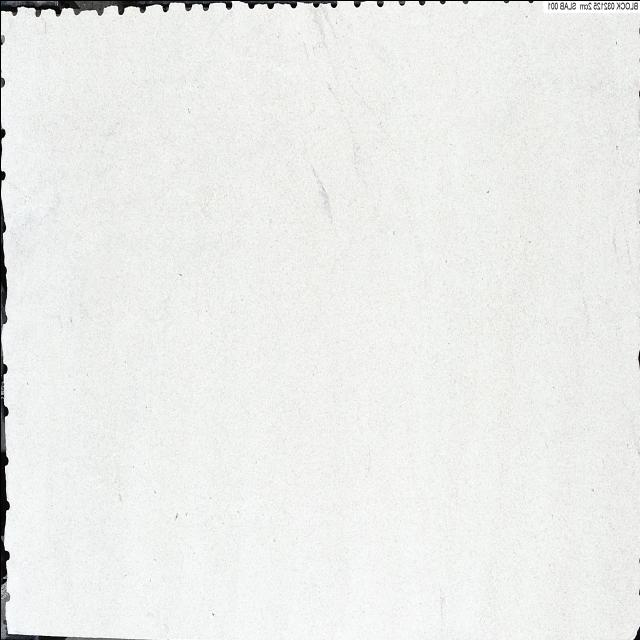chapa: (0, 0, 640, 637)
veio: (159, 0, 171, 14), (115, 2, 125, 16), (52, 4, 62, 18), (32, 5, 42, 19), (287, 0, 302, 9), (327, 0, 339, 11), (222, 0, 234, 11), (10, 4, 19, 18), (182, 0, 192, 12), (136, 2, 146, 14), (200, 1, 210, 12), (352, 0, 362, 9), (375, 0, 385, 8)
